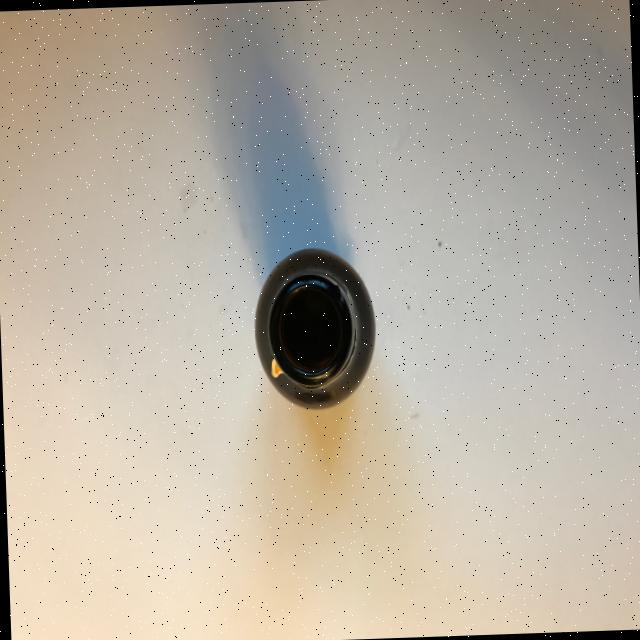glass: (250, 244, 378, 412)
